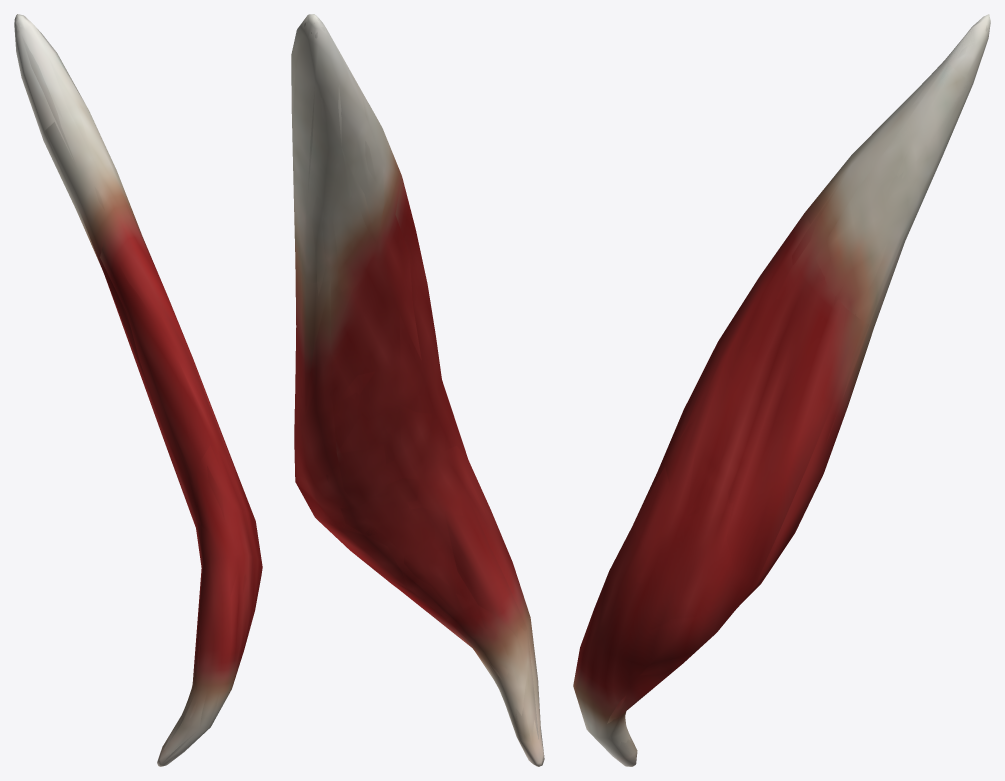
File: L Deltoideus Scapularis.fbx
3 renders of one model, left to right at view 1: azimuth 30°, elevation 25°; view 2: azimuth 150°, elevation 25°; view 3: azimuth 270°, elevation 25°, orthographic. The views are drawn at different scales.
Visible parts, largest first — view 1: L Deltoideus Scapularis, L Deltoideus Scapularis low, L Deltoideus Scapularis high; view 2: L Deltoideus Scapularis, L Deltoideus Scapularis low, L Deltoideus Scapularis high; view 3: L Deltoideus Scapularis, L Deltoideus Scapularis low, L Deltoideus Scapularis high.
Part boxes in pixels (x1=…): L Deltoideus Scapularis: x1=14, y1=14, x2=262, y2=766; L Deltoideus Scapularis low: x1=21, y1=27, x2=250, y2=764; L Deltoideus Scapularis high: x1=16, y1=18, x2=253, y2=763; L Deltoideus Scapularis: x1=291, y1=14, x2=544, y2=766; L Deltoideus Scapularis low: x1=291, y1=18, x2=544, y2=765; L Deltoideus Scapularis high: x1=293, y1=19, x2=542, y2=760; L Deltoideus Scapularis: x1=573, y1=14, x2=990, y2=766; L Deltoideus Scapularis low: x1=575, y1=20, x2=988, y2=766; L Deltoideus Scapularis high: x1=588, y1=20, x2=987, y2=759.
Bounding box in the file's own units: 1.06 × 5.12 × 2.56.
